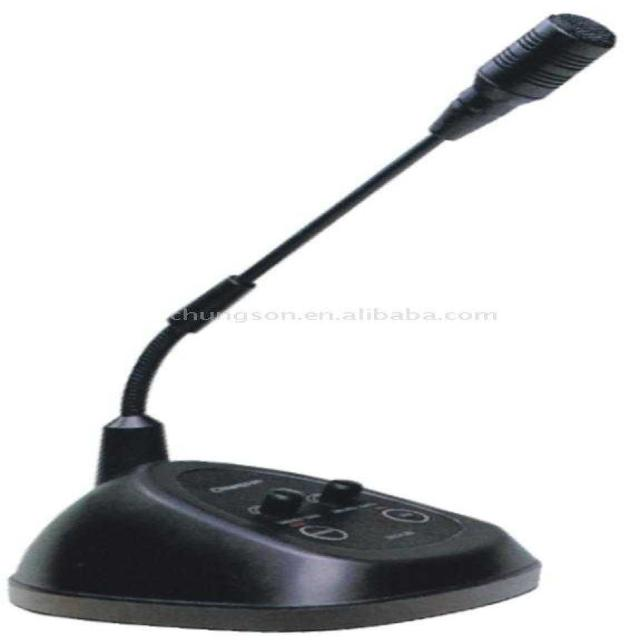microphone: (434, 14, 614, 142)
